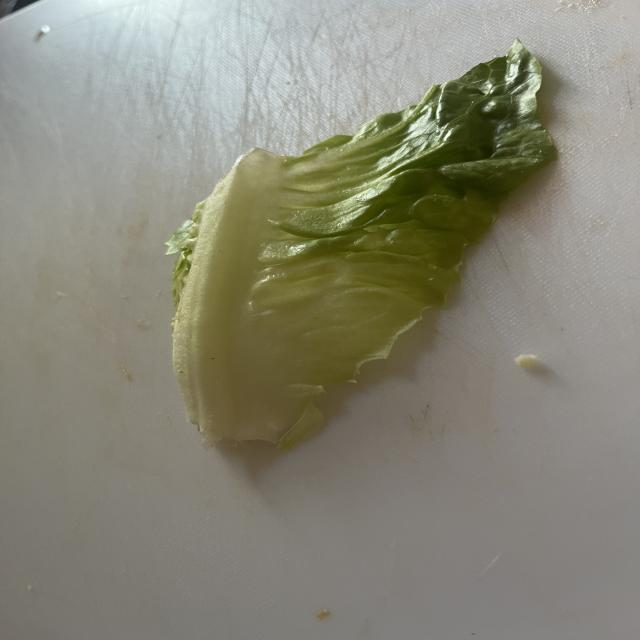lettuce: (167, 41, 555, 448)
